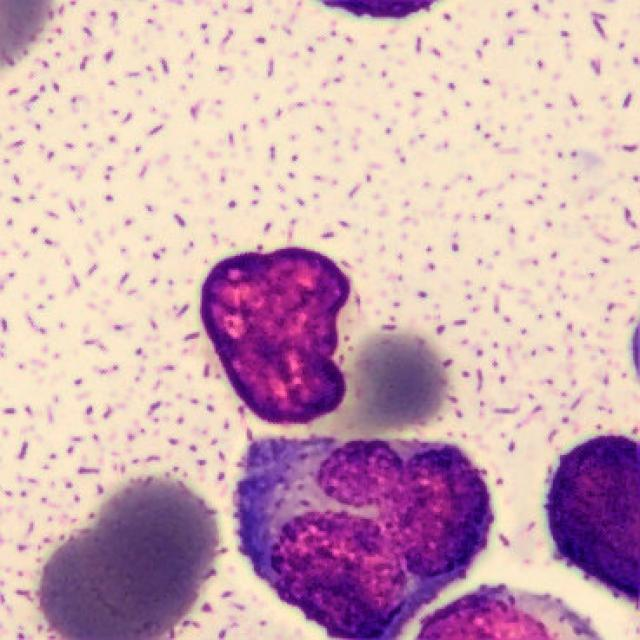Linfocito: (200, 247, 353, 427)
Mieloblasto: (233, 441, 492, 638)
